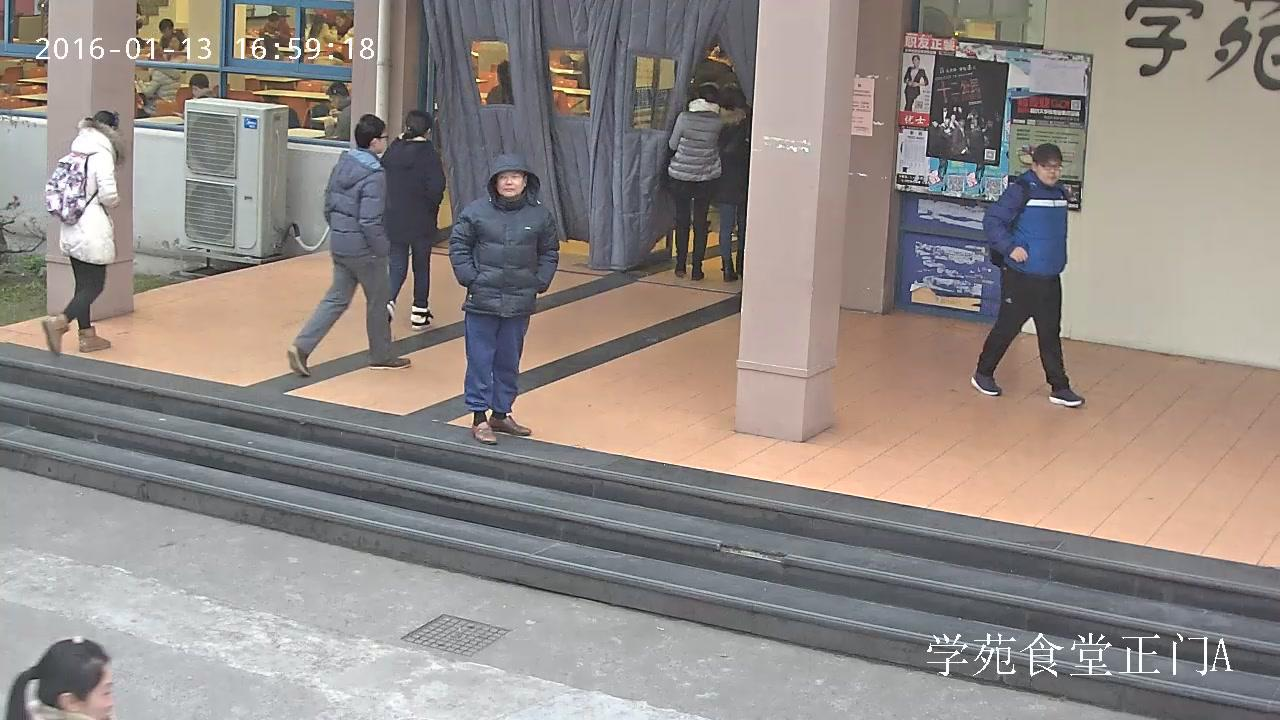person: (287, 114, 412, 377), (448, 152, 559, 444), (969, 142, 1086, 408), (41, 111, 124, 358), (666, 83, 749, 281), (380, 109, 444, 330), (714, 83, 751, 282), (136, 49, 181, 117), (172, 72, 219, 121), (306, 8, 340, 63), (323, 79, 351, 140), (902, 55, 927, 111), (155, 17, 186, 52), (260, 13, 291, 48)
